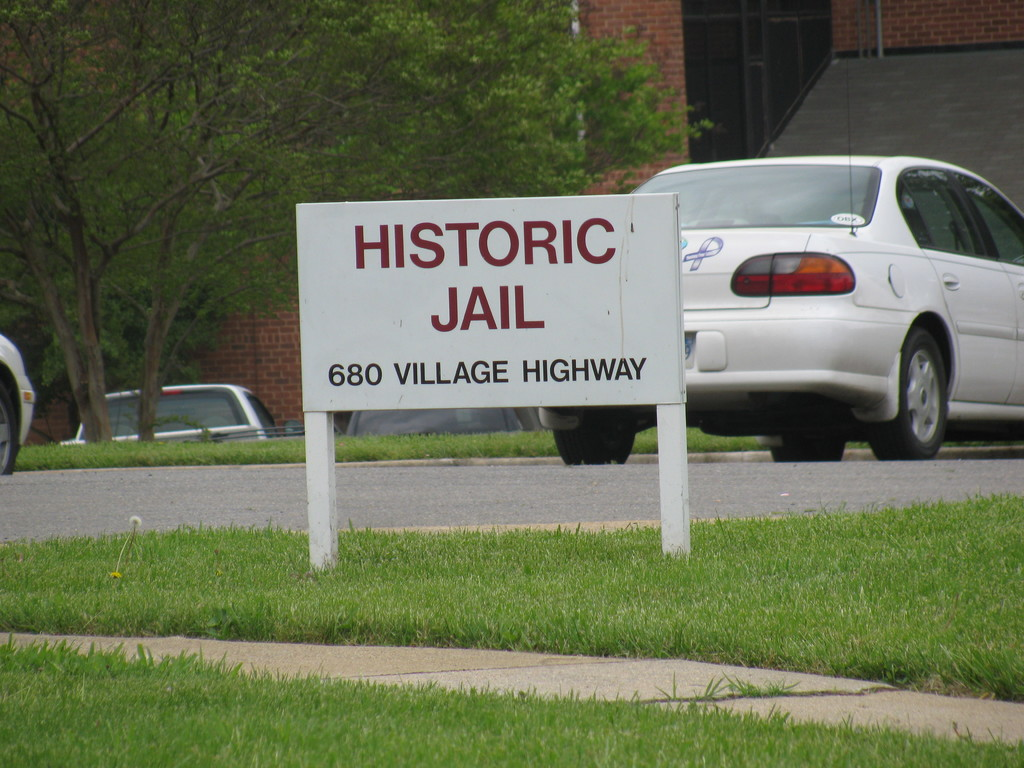Car: (536, 75, 1023, 462), (0, 336, 39, 477)
